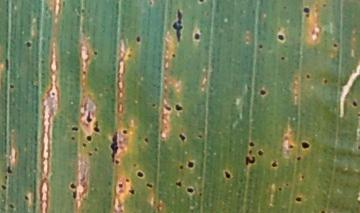tarspot: (173, 10, 183, 42), (111, 131, 118, 163), (245, 155, 256, 165), (93, 120, 100, 133), (300, 141, 310, 149), (86, 111, 92, 123), (193, 32, 201, 41), (178, 133, 186, 142), (271, 158, 278, 168), (259, 89, 267, 97), (175, 104, 184, 111), (224, 171, 231, 179), (175, 181, 183, 188), (145, 182, 153, 189), (136, 171, 144, 178), (294, 196, 303, 202), (5, 58, 9, 71), (165, 104, 172, 111), (187, 161, 194, 168), (248, 141, 255, 148), (287, 143, 294, 150), (303, 7, 310, 14), (7, 165, 13, 173), (278, 33, 284, 41), (251, 8, 257, 16), (72, 190, 77, 199), (86, 135, 92, 142), (257, 150, 264, 156), (352, 101, 358, 108), (128, 189, 135, 195), (1, 184, 7, 191), (8, 203, 15, 209), (107, 180, 113, 187), (136, 35, 141, 43), (186, 188, 194, 193), (197, 134, 203, 140), (321, 2, 327, 8), (305, 73, 311, 79), (117, 182, 123, 188), (70, 183, 76, 189), (26, 41, 31, 48), (258, 43, 263, 50), (71, 127, 79, 131), (319, 209, 327, 213), (9, 84, 15, 89), (40, 60, 46, 65), (82, 142, 87, 148), (115, 159, 120, 165), (132, 162, 137, 168), (144, 137, 149, 143), (296, 156, 302, 161), (332, 43, 338, 48), (300, 174, 305, 180), (125, 177, 130, 183), (282, 5, 288, 10), (51, 92, 56, 97), (88, 152, 93, 157), (93, 147, 98, 152), (93, 51, 98, 56), (127, 53, 132, 58), (148, 1, 153, 6), (171, 53, 176, 58), (248, 150, 253, 155), (305, 13, 310, 18), (277, 187, 282, 192), (24, 196, 29, 201), (81, 8, 85, 14), (122, 130, 128, 134), (324, 79, 328, 85), (4, 174, 8, 180), (71, 136, 75, 141), (152, 103, 156, 108), (179, 166, 184, 170), (281, 56, 285, 61), (199, 191, 202, 197), (82, 71, 86, 75), (199, 1, 205, 3), (357, 113, 360, 117), (286, 183, 289, 187), (358, 145, 360, 150)
